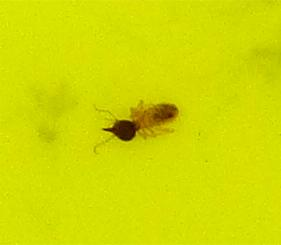Isoptera: (100, 100, 181, 145)
